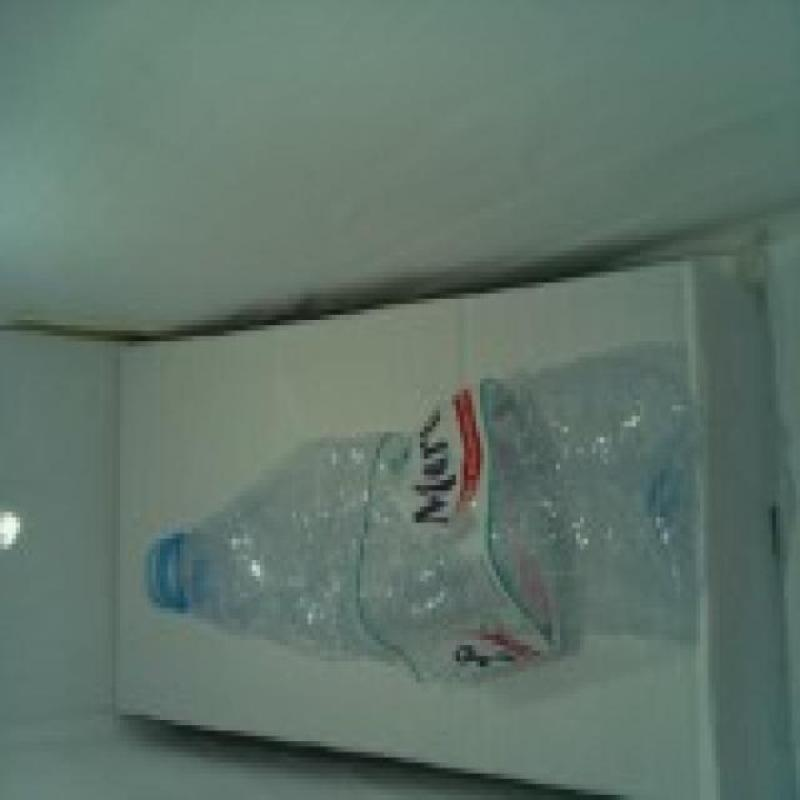botella: (143, 362, 698, 682)
